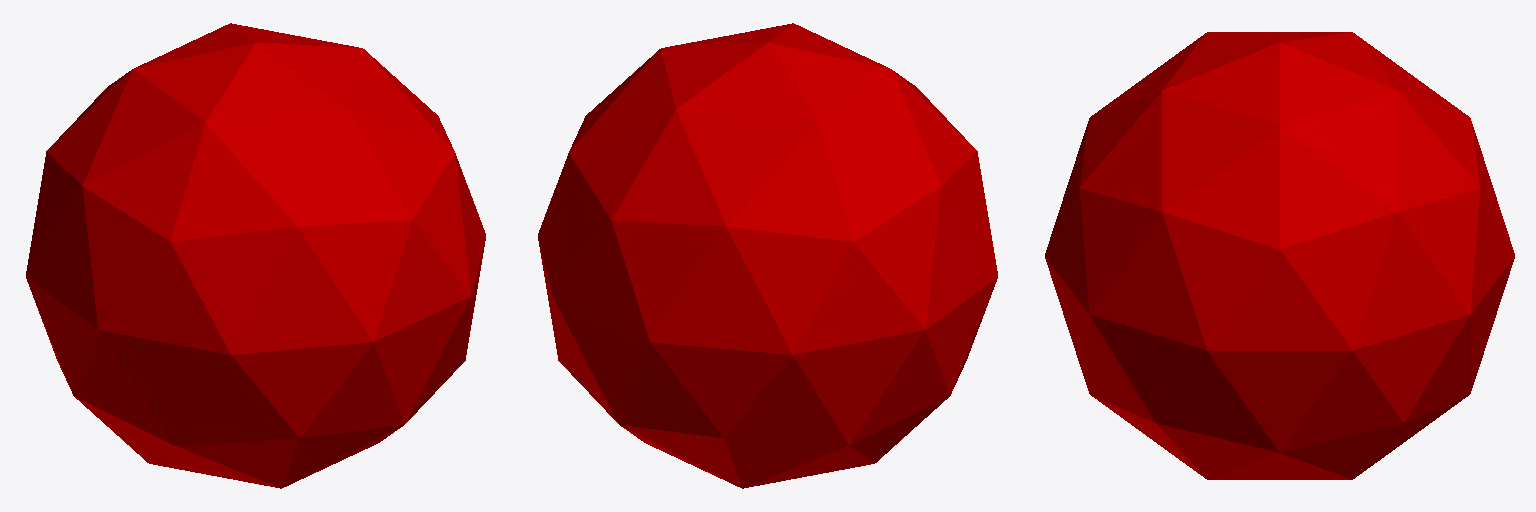
The model's file is icospherelp.obj.
The picture shows the model from 3 angles: view 1: azimuth 30°, elevation 25°; view 2: azimuth 150°, elevation 25°; view 3: azimuth 270°, elevation 25°; orthographic projection.
Parts seen in each view (by area): view 1: Icosphere; view 2: Icosphere; view 3: Icosphere.
Boxes of the visible parts, <box> form: Icosphere: <box>26,23,485,488</box>; Icosphere: <box>538,23,997,488</box>; Icosphere: <box>1045,32,1514,479</box>.
Bounding box in the file's own units: 1.9 × 2 × 2.